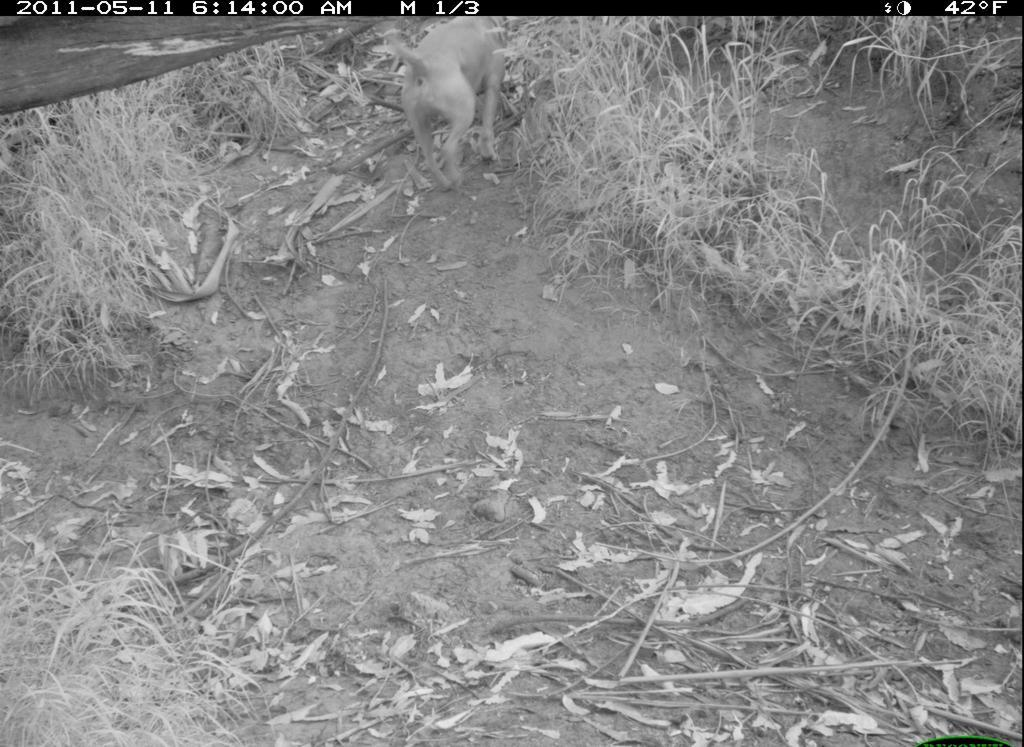dog: (377, 17, 518, 193)
